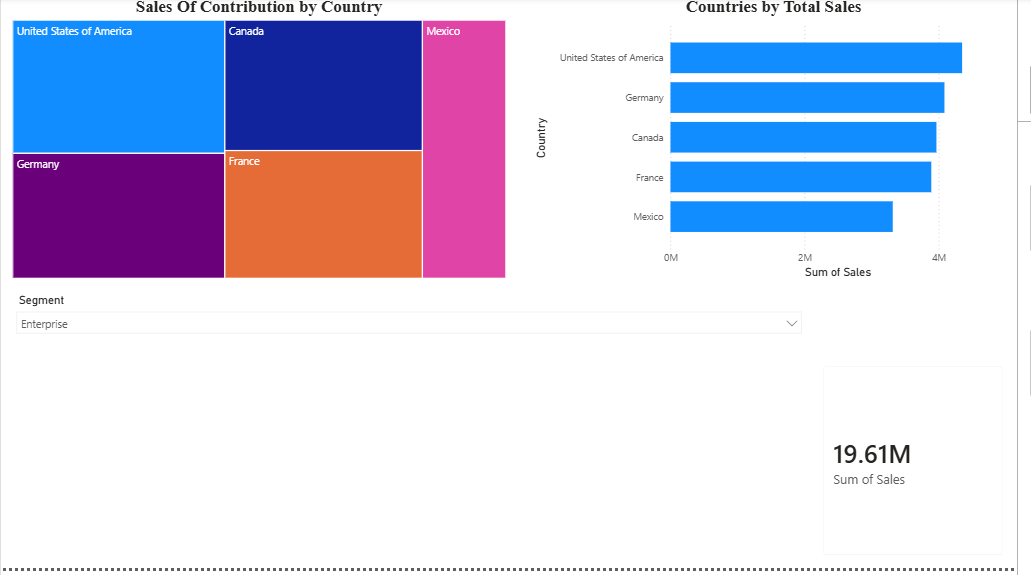

The page's visual inventory and layout, read from the dashboard file:
{"tool":"powerbi","page":{"name":"PRODUCT PERFORMANCE","canvas":[1280,720],"ordinal":1},"visuals":[{"type":"treemap","title":"Sales Of Contribution by Country","fields":{"Group":["Sales fact.Country"],"Values":["Sum(Sales fact.Sales)"]},"box":[9.4,0,631.2,359.1],"z":0},{"type":"clusteredBarChart","title":"Countries by Total Sales","fields":{"Category":["Sales fact.Country"],"Y":["Sum(Sales fact.Sales)"]},"box":[667.1,0,612.3,359.1],"z":1},{"type":"slicer","fields":{"Values":["Sales fact.Segment"]},"box":[9.4,368.5,1009.1,332.6],"z":2},{"type":"cardVisual","fields":{"Data":["Sum(Sales fact.Sales)"]},"box":[1018.6,447.9,260.8,272.1],"z":3}]}

Visuals, with their boxes in screenshot pixels (x1, y1, x2, y2), scaled from the page's 1280x720 canvas onto the 1031x575 screenshot:
"Sales Of Contribution by Country" treemap: left=8, top=0, right=516, bottom=287
"Countries by Total Sales" clusteredBarChart: left=537, top=0, right=1030, bottom=287
slicer - Sales fact.Segment: left=8, top=294, right=820, bottom=560
cardVisual - Sum(Sales fact.Sales): left=820, top=358, right=1030, bottom=574
